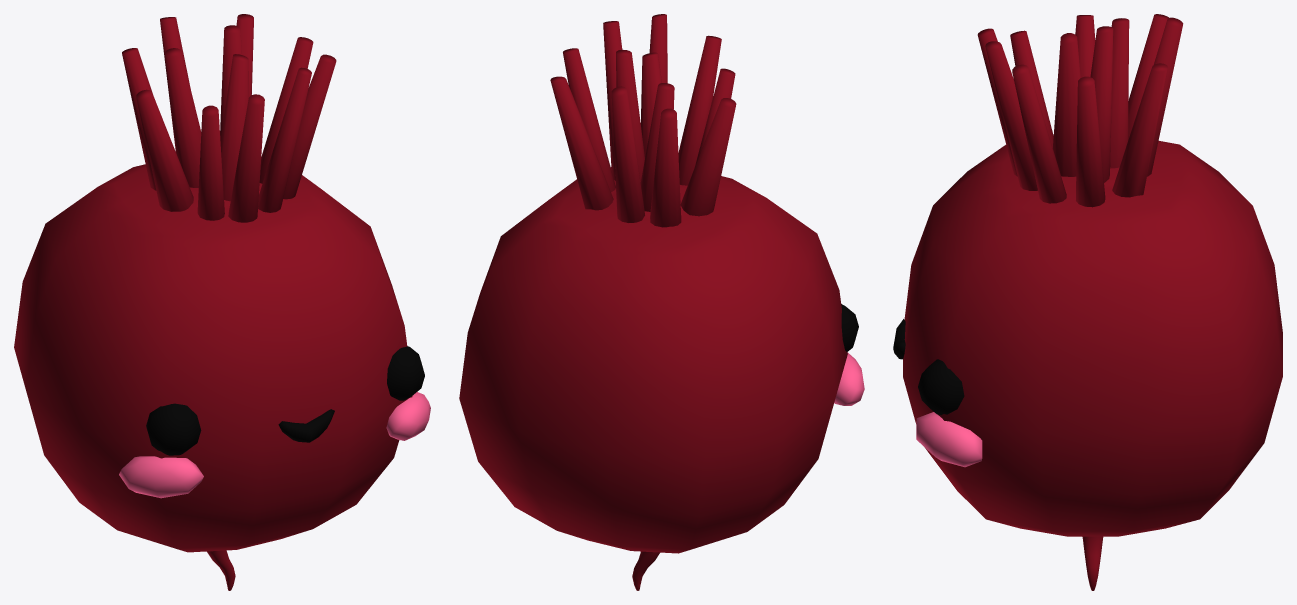
File: Beetroot(smiling).fbx
The picture shows the model from 3 angles, left to right: view 1: azimuth 30°, elevation 25°; view 2: azimuth 150°, elevation 25°; view 3: azimuth 270°, elevation 25°; orthographic projection. The views are drawn at different scales.
Parts seen in each view (by area): view 1: Beetroot(smiling); view 2: Beetroot(smiling); view 3: Beetroot(smiling).
Part boxes in pixels (x1,y1,x2,y2): Beetroot(smiling): (14, 14, 430, 590); Beetroot(smiling): (459, 14, 864, 590); Beetroot(smiling): (893, 14, 1282, 590).
Bounding box in the file's own units: 117 × 194 × 121.
